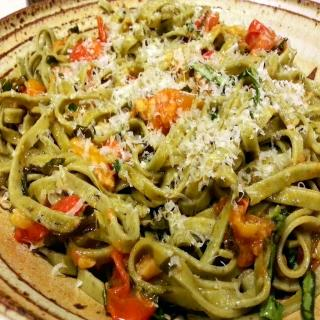Pasta: (1, 0, 304, 320)
